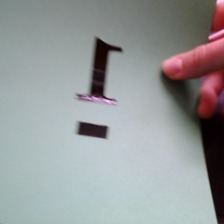green1: (68, 31, 133, 146)
